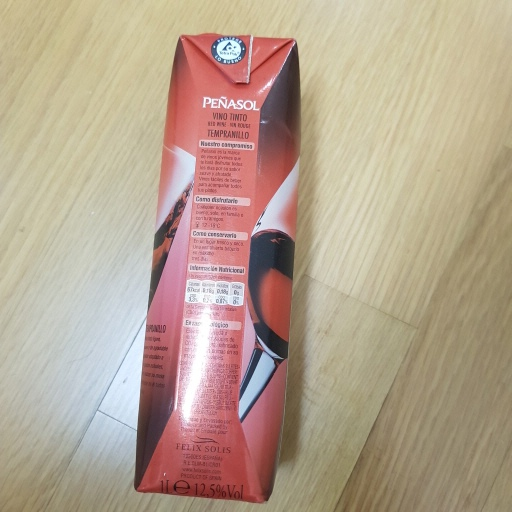Paper_0: (129, 32, 328, 512)
